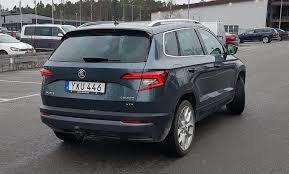license-plates: (65, 82, 105, 94)
